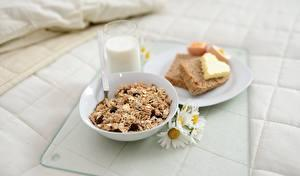chamomile: (159, 109, 216, 153)
